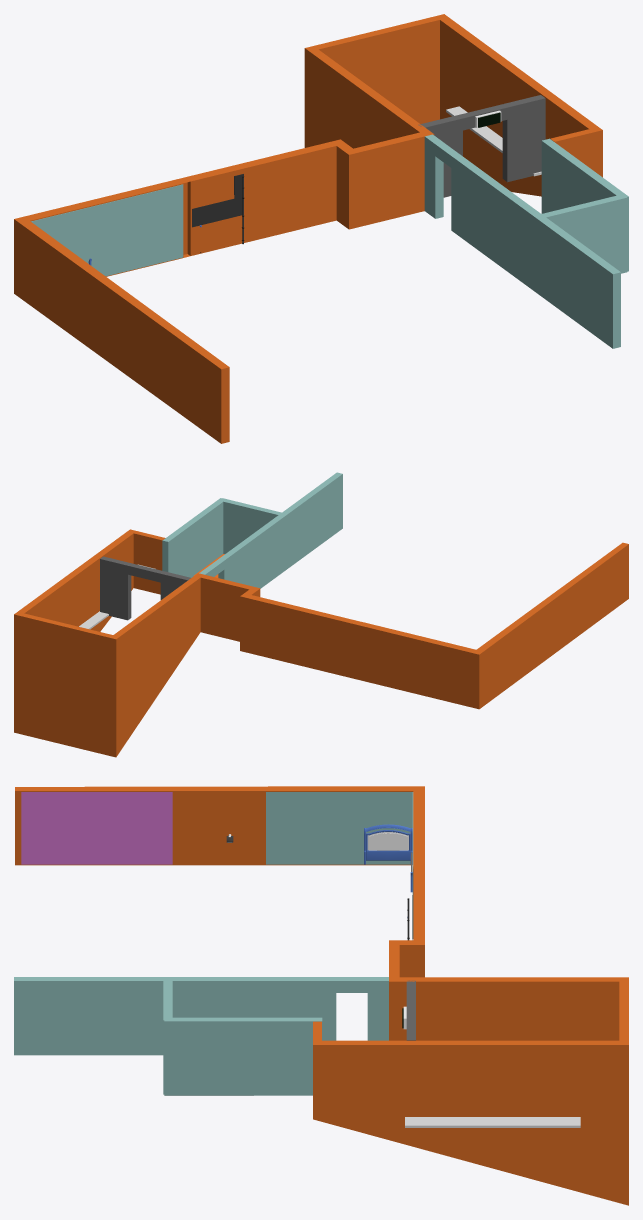
Rendered from homeWallFront.FBX.
3 renders of one model, top to bottom at view 1: azimuth 30°, elevation 25°; view 2: azimuth 150°, elevation 25°; view 3: azimuth 270°, elevation 25°, orthographic. The views are drawn at different scales.
Parts seen in each view (by area): view 1: Line001, Line023, Box339, Line072, Line025, Line026, Line040, 27, Box006; view 2: Line001, Line023, Line026, Line072, Line025, Line040; view 3: Line001, Line023, Line026, Box340, Box338, Line040, Box006, Box024, Shape010, Line072.
Boxes of the visible parts, <box> form: Line001: <box>14,14,602,443</box>; Line023: <box>467,166,620,348</box>; Box339: <box>31,184,183,276</box>; Line072: <box>418,95,545,197</box>; Line025: <box>538,194,627,273</box>; Line026: <box>541,138,628,271</box>; Line040: <box>424,134,475,242</box>; 27: <box>192,174,243,227</box>; Box006: <box>446,106,541,176</box>; Line001: <box>14,529,628,757</box>; Line023: <box>231,472,342,588</box>; Line026: <box>162,498,223,577</box>; Line072: <box>100,556,190,620</box>; Line025: <box>219,498,283,553</box>; Line040: <box>199,550,236,582</box>; Line001: <box>15,786,628,1205</box>; Line023: <box>14,977,302,1055</box>; Line026: <box>164,1017,322,1095</box>; Box340: <box>21,792,172,864</box>; Box338: <box>266,792,412,864</box>; Line040: <box>293,977,388,1040</box>; Box006: <box>405,1117,580,1127</box>; Box024: <box>367,832,408,850</box>; Shape010: <box>366,830,410,860</box>; Line072: <box>406,980,415,1040</box>.
Bounding box in the file's own units: 484 × 135 × 470.
